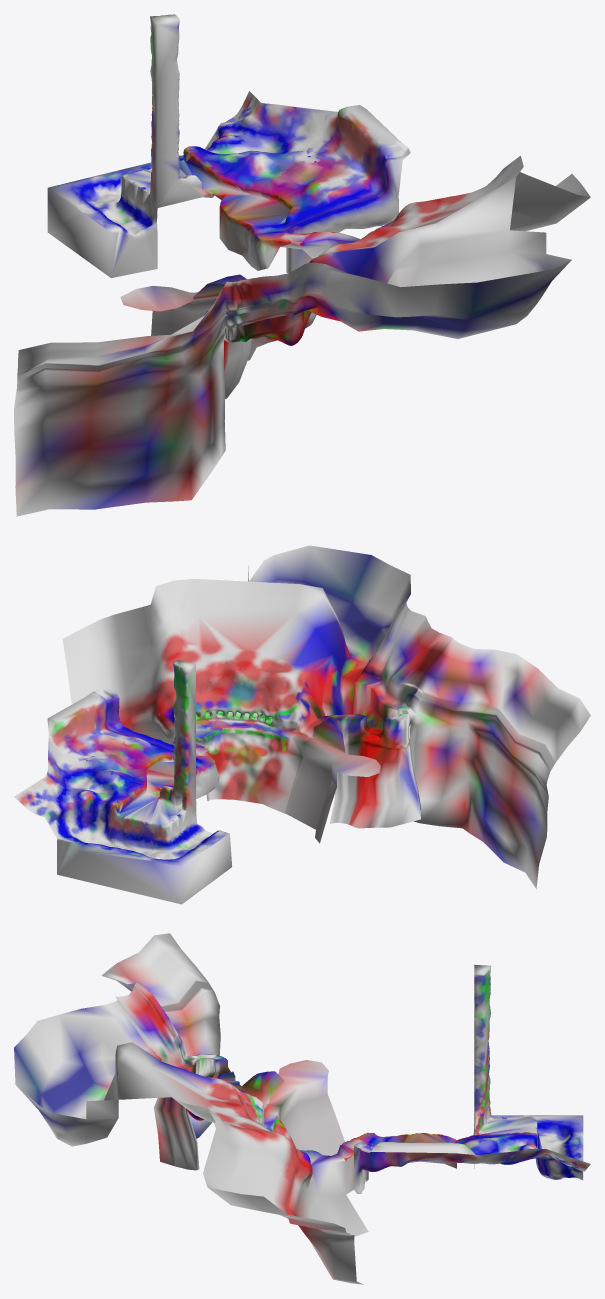
File: floor-02.fbx
The picture shows the model from 3 angles, top to bottom: view 1: azimuth 30°, elevation 25°; view 2: azimuth 150°, elevation 25°; view 3: azimuth 270°, elevation 25°; orthographic projection. The views are drawn at different scales.
Parts seen in each view (by area): view 1: ground; view 2: ground; view 3: ground.
Boxes of the visible parts, x1,y1,x2,y2 form: ground: (14, 14, 590, 516); ground: (14, 545, 590, 904); ground: (14, 933, 590, 1284).
Size of the model in its own units: 10592 by 5294 by 10204.
